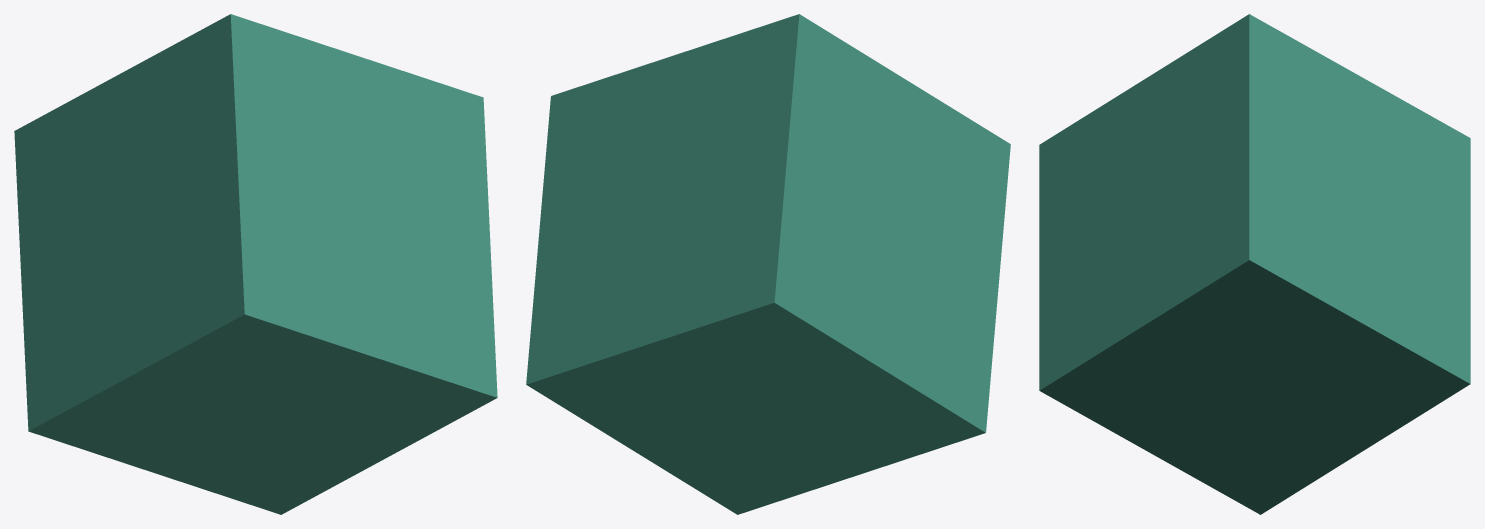
File: PROP_Todd.fbx
3 views of the same model, side by side, from view 1: azimuth 30°, elevation 25°; view 2: azimuth 150°, elevation 25°; view 3: azimuth 270°, elevation 25° (orthographic). The views are drawn at different scales.
Visible parts, largest first — view 1: Cube; view 2: Cube; view 3: Cube.
Boxes of the visible parts, x1=… form: Cube: x1=14, y1=14, x2=497, y2=514; Cube: x1=526, y1=14, x2=1010, y2=514; Cube: x1=1039, y1=14, x2=1470, y2=514.
Bounding box in the file's own units: 1.56 × 1.72 × 1.41.
